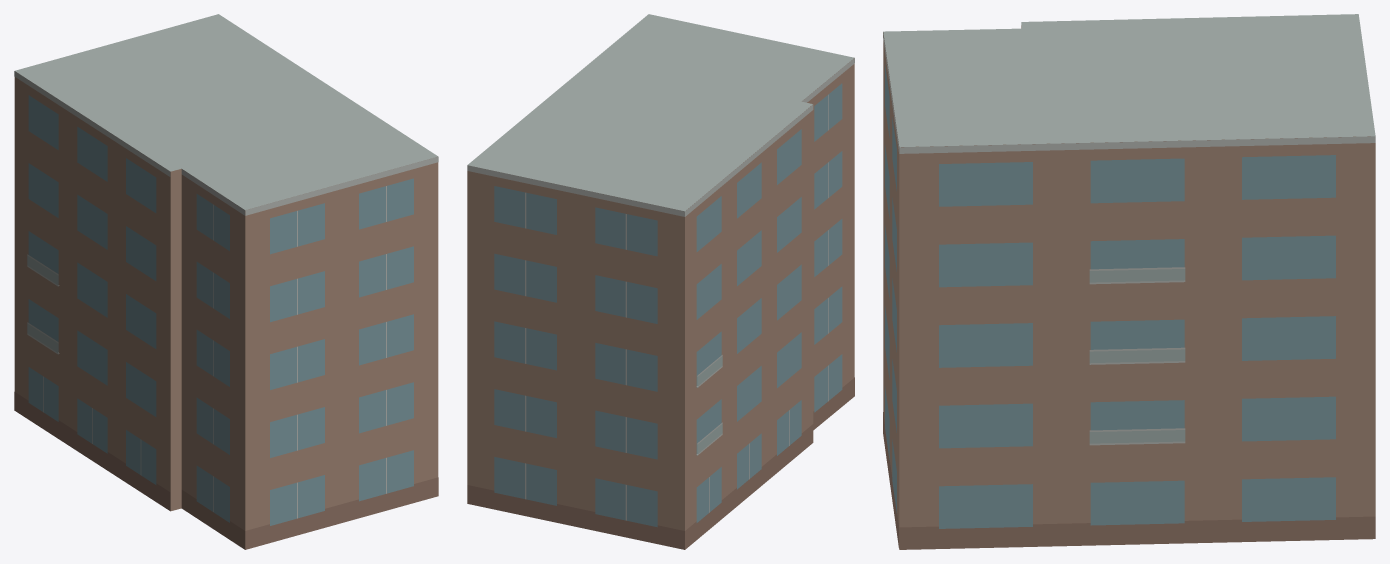
Rendered from survey-upis-32869677.glb.
3 views of the same model, side by side, from view 1: azimuth 30°, elevation 25°; view 2: azimuth 150°, elevation 25°; view 3: azimuth 270°, elevation 25° (orthographic). The views are drawn at different scales.
Visible parts, largest first — view 1: survey-upis-32869677.tmp; view 2: survey-upis-32869677.tmp; view 3: survey-upis-32869677.tmp.
Boxes of the visible parts, x1,y1,x2,y2 form: survey-upis-32869677.tmp: [14, 14, 438, 549]; survey-upis-32869677.tmp: [467, 14, 854, 549]; survey-upis-32869677.tmp: [883, 14, 1375, 549].
Size of the model in its own units: 10.29 by 14.5 by 16.08.
